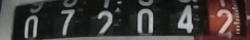digits: (216, 8, 234, 38), (177, 4, 194, 32), (59, 8, 76, 36), (136, 8, 154, 33), (97, 11, 113, 38), (24, 15, 38, 37)
